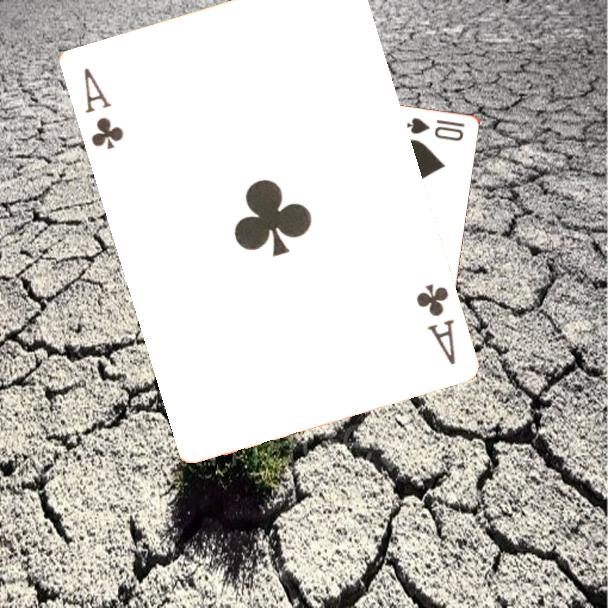c01: (79, 64, 126, 152), (412, 280, 458, 367)
s10: (403, 114, 468, 144)
